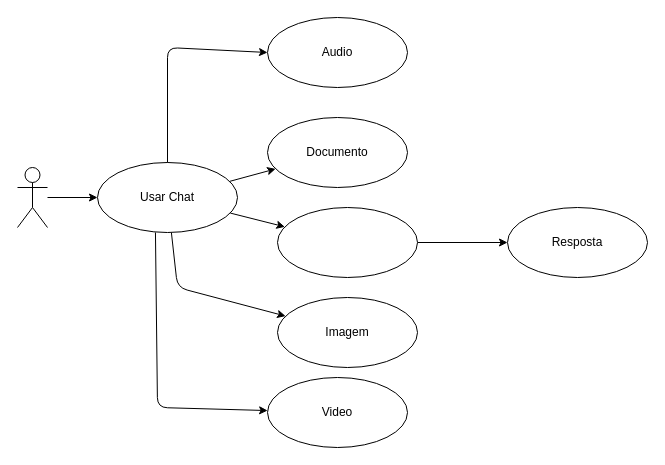
The diagram is 665 pixels wide and 465 high, and some of its shapes have lost their labels. The box of each missing label's shape, as (x1, y1, x2, y2) in pixels:
Actor: (16, 166, 48, 228)
Comando: (276, 206, 418, 278)
